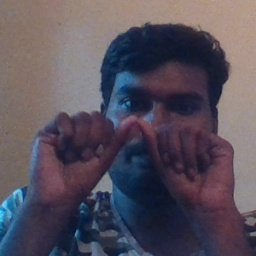A: (54, 107, 209, 209)
